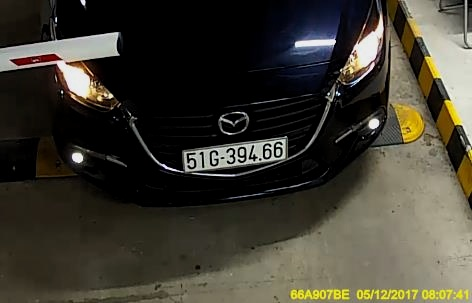plate: (180, 136, 291, 172)
